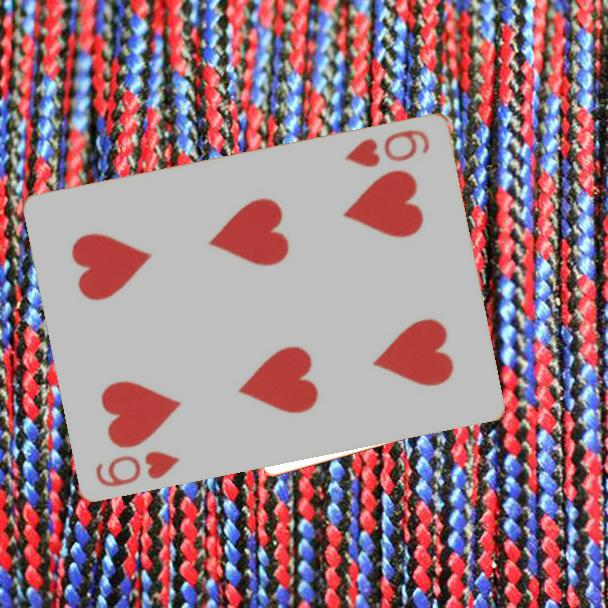h06: (341, 125, 433, 170), (92, 446, 183, 490)
